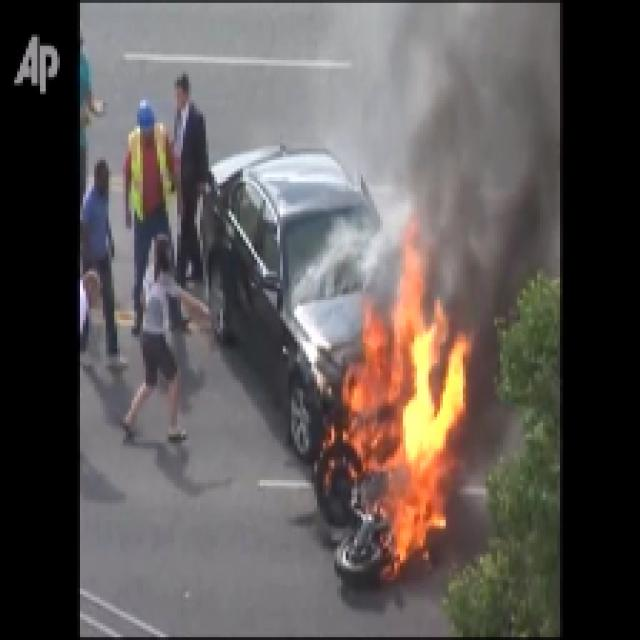fire: (354, 321, 470, 571)
smoke: (362, 4, 558, 244)
